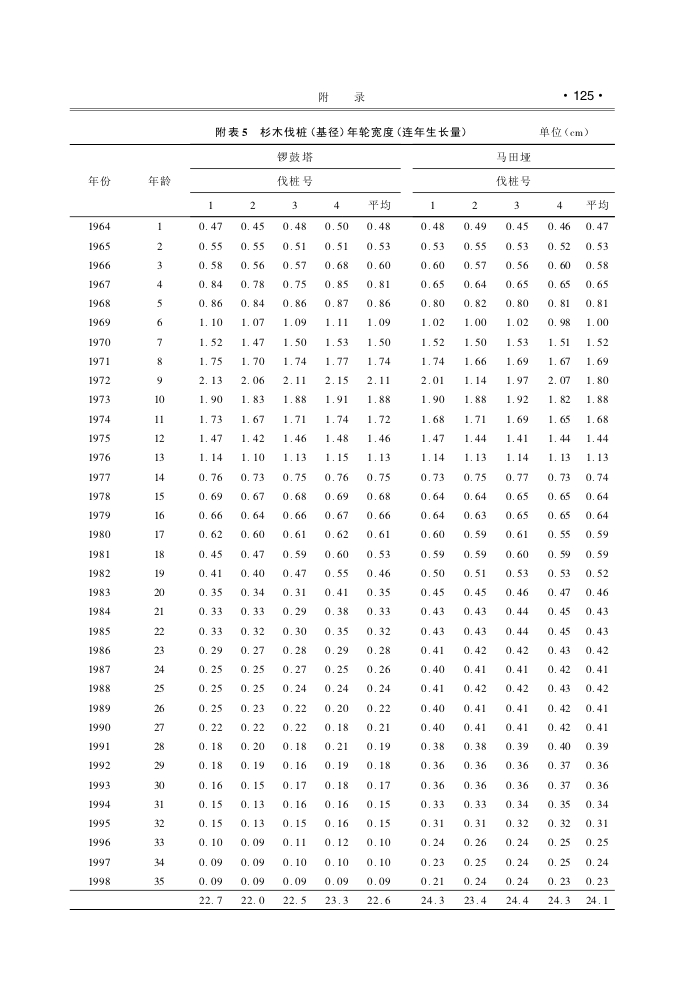table: (69, 143, 615, 910)
